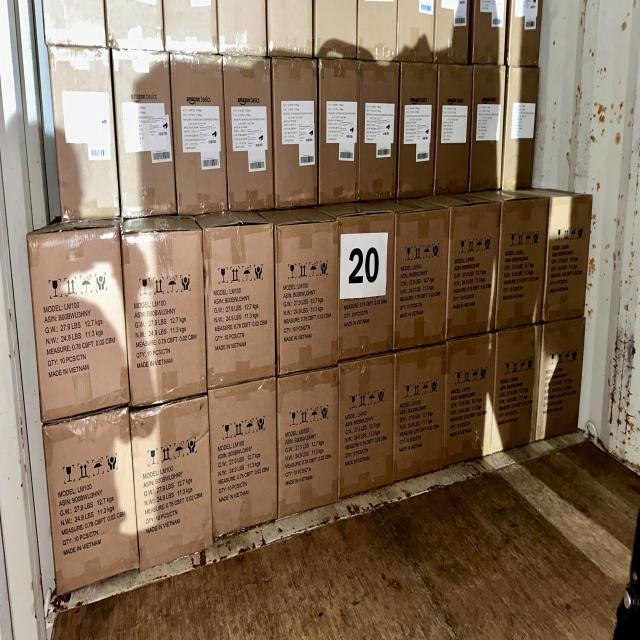Carton: (21, 233, 126, 426), (48, 402, 142, 584), (118, 224, 207, 396), (128, 398, 212, 557), (210, 223, 280, 383), (208, 379, 278, 526), (274, 220, 340, 370), (276, 373, 339, 508), (343, 213, 400, 356), (336, 359, 394, 491), (397, 210, 450, 346), (448, 204, 497, 336), (445, 335, 496, 457), (397, 351, 447, 475), (497, 199, 545, 328), (547, 197, 591, 322), (539, 321, 586, 438), (495, 328, 538, 448)
